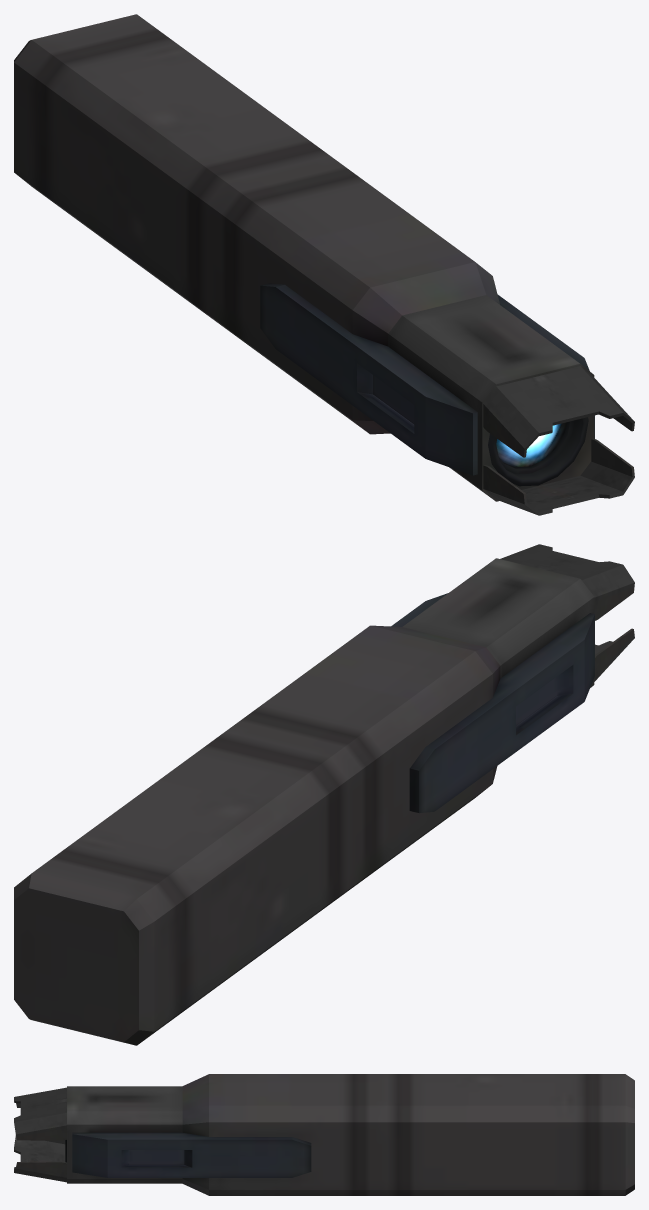
The model's file is ScifiMechMediumStandardLaser.glb.
The picture shows the model from 3 angles, top to bottom: view 1: azimuth 30°, elevation 25°; view 2: azimuth 150°, elevation 25°; view 3: azimuth 270°, elevation 25°; orthographic projection. The views are drawn at different scales.
Parts seen in each view (by area): view 1: ScifiMechMediumStandardLaser; view 2: ScifiMechMediumStandardLaser; view 3: ScifiMechMediumStandardLaser.
Part boxes in pixels (left/top/right/bottom): ScifiMechMediumStandardLaser: left=14, top=14, right=634, bottom=515; ScifiMechMediumStandardLaser: left=14, top=544, right=634, bottom=1045; ScifiMechMediumStandardLaser: left=14, top=1074, right=634, bottom=1195.
Size of the model in its own units: 0.00389 by 0.00343 by 0.0214.
Materials: 1 (1 with a texture image).
